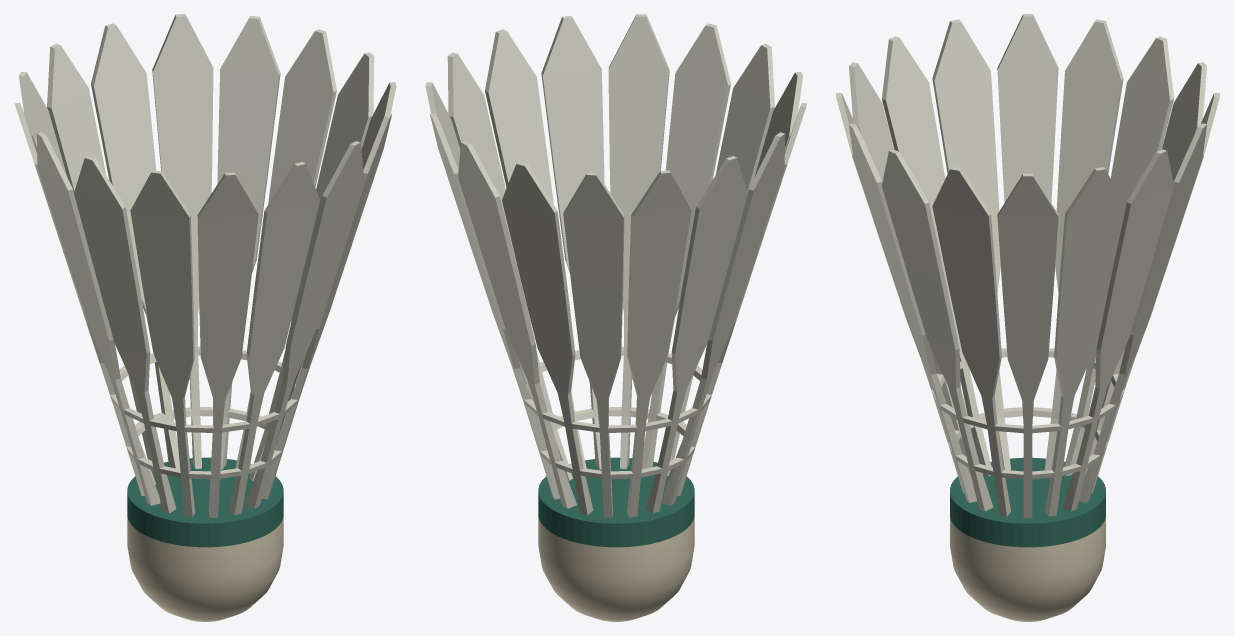
The model's file is A-NEW-20261027-SHUTTLECOCK-001_LOD2_R8.glb.
The picture shows the model from 3 angles, left to right: view 1: azimuth 30°, elevation 25°; view 2: azimuth 150°, elevation 25°; view 3: azimuth 270°, elevation 25°; orthographic projection.
Visible parts, largest first — view 1: shared topology head and sixteen distinct feathers; view 2: shared topology head and sixteen distinct feathers; view 3: shared topology head and sixteen distinct feathers.
Boxes of the visible parts, x1,y1,x2,y2 form: shared topology head and sixteen distinct feathers: (14,14,396,621); shared topology head and sixteen distinct feathers: (425,14,807,621); shared topology head and sixteen distinct feathers: (836,14,1219,621).
Size of the model in its own units: 0.0589 by 0.088 by 0.0589.
